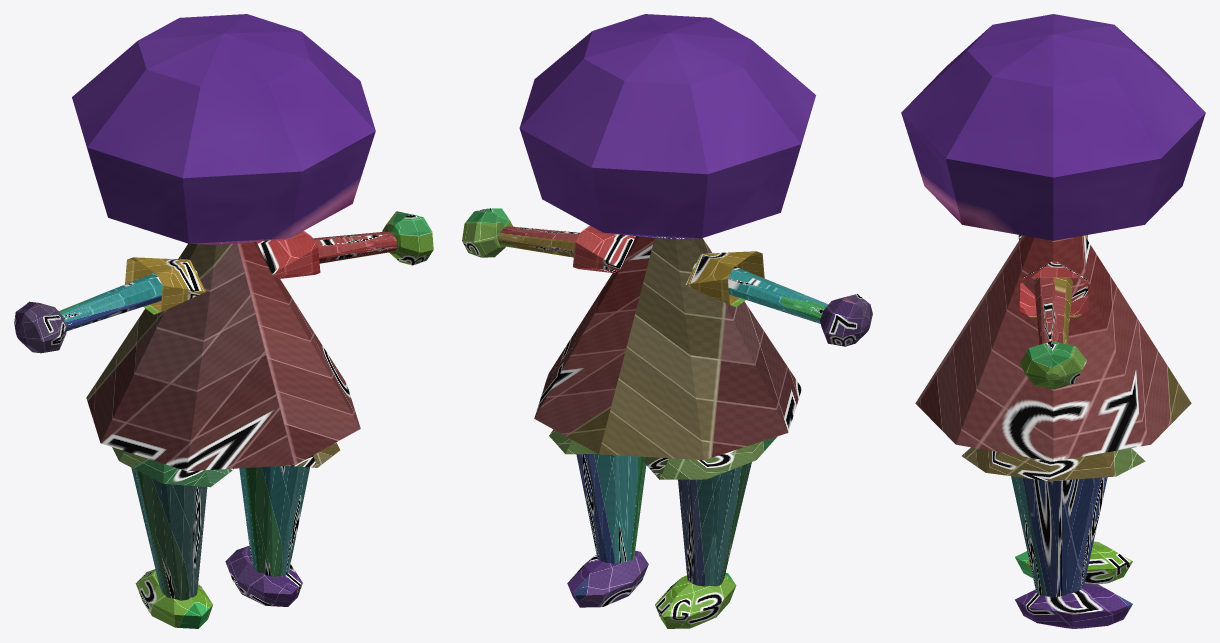
File: lil guy 2.glb
3 renders of one model, left to right at view 1: azimuth 30°, elevation 25°; view 2: azimuth 150°, elevation 25°; view 3: azimuth 270°, elevation 25°, orthographic. The views are drawn at different scales.
Parts seen in each view (by area): view 1: Sphere, Cone, Cylinder.004, Cylinder.005, Cylinder.003, Cylinder.002, Sphere.003, Sphere.004, Cylinder.001, Sphere.002, Sphere.001, Cylinder (+1 smaller); view 2: Sphere, Cone, Cylinder.004, Cylinder.005, Sphere.003, Sphere.004, Cylinder.003, Cylinder.002, Cone.002, Cylinder.001, Sphere.002, Sphere.001 (+1 smaller); view 3: Sphere, Cone, Cylinder.005, Cone.001, Sphere.003, Sphere.001, Cylinder, Sphere.004, Cylinder.001.
Boxes of the visible parts, bbox=[...] form: Sphere: bbox=[72, 14, 375, 244]; Cone: bbox=[86, 242, 360, 471]; Cylinder.004: bbox=[131, 467, 207, 600]; Cylinder.005: bbox=[239, 465, 309, 577]; Cylinder.003: bbox=[58, 270, 197, 330]; Cylinder.002: bbox=[125, 257, 205, 314]; Sphere.003: bbox=[225, 546, 302, 606]; Sphere.004: bbox=[135, 569, 212, 628]; Cylinder.001: bbox=[256, 231, 320, 278]; Sphere.002: bbox=[14, 301, 66, 353]; Sphere.001: bbox=[382, 211, 433, 265]; Cylinder: bbox=[313, 231, 397, 263]; Sphere: bbox=[519, 14, 815, 239]; Cone: bbox=[534, 236, 801, 460]; Cylinder.004: bbox=[678, 462, 751, 586]; Cylinder.005: bbox=[576, 454, 646, 563]; Sphere.003: bbox=[567, 550, 648, 607]; Sphere.004: bbox=[655, 573, 736, 628]; Cylinder.003: bbox=[692, 263, 828, 323]; Cylinder.002: bbox=[685, 251, 764, 307]; Cone.002: bbox=[643, 436, 777, 479]; Cylinder.001: bbox=[573, 225, 635, 273]; Sphere.002: bbox=[820, 294, 872, 346]; Sphere.001: bbox=[462, 208, 512, 257]; Sphere: bbox=[901, 14, 1205, 240]; Cone: bbox=[915, 235, 1191, 461]; Cylinder.005: bbox=[1011, 476, 1107, 597]; Cone.001: bbox=[962, 447, 1145, 481]; Sphere.003: bbox=[1015, 583, 1132, 628]; Sphere.001: bbox=[1020, 341, 1086, 389]; Cylinder: bbox=[1034, 277, 1072, 344]; Sphere.004: bbox=[1015, 541, 1132, 584]; Cylinder.001: bbox=[1019, 261, 1088, 317].
Size of the model in its own units: 3.33 by 4.54 by 2.21.
1 material, 1 textured.
